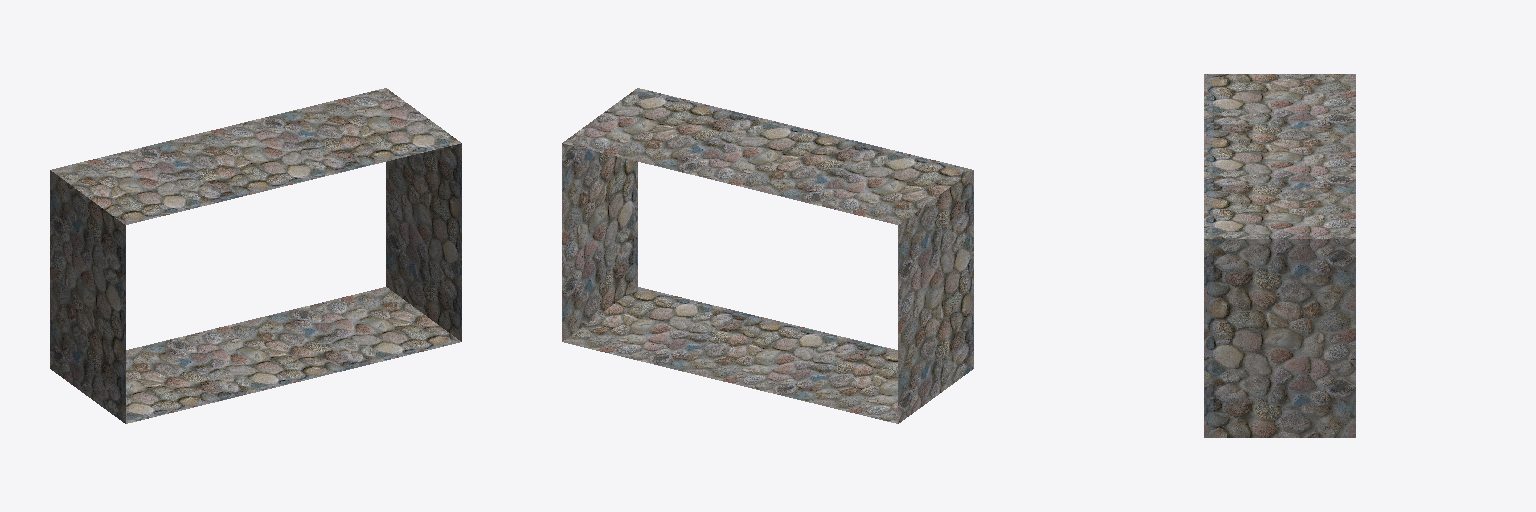
3 renders of one model, left to right at view 1: azimuth 30°, elevation 25°; view 2: azimuth 150°, elevation 25°; view 3: azimuth 270°, elevation 25°, orthographic.
Parts seen in each view (by area): view 1: box; view 2: box; view 3: box.
Boxes of the visible parts, <box> form: box: <box>50,88,461,423</box>; box: <box>562,88,973,423</box>; box: <box>1204,74,1355,437</box>.
Size of the model in its own units: 26.06 by 14.73 by 10.15.
1 materials, 1 textured.